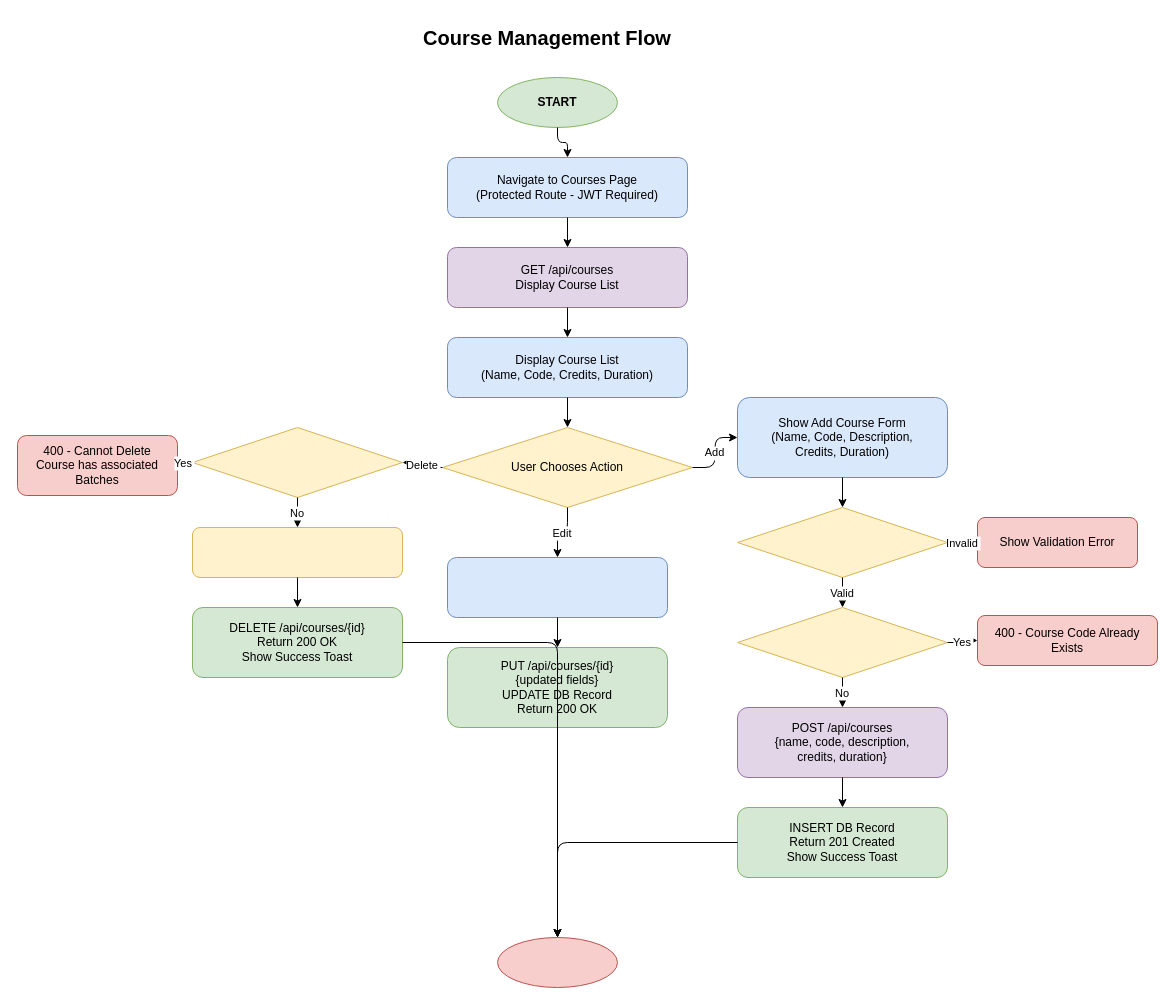
This 1175x1005 diagram has some shape labels left out. Here are the shapes that lost their labels. From the top down, the box of each, then its label:
(192, 426, 402, 498): Course Has Batches?
(192, 526, 402, 578): Show Confirmation Dialog
(736, 506, 948, 578): Validate Required Fields (Name & Code required)
(446, 556, 668, 618): Pre-fill Edit Form with Existing Course Data
(736, 606, 948, 678): Course Code Already Exists?
(496, 936, 618, 988): END
